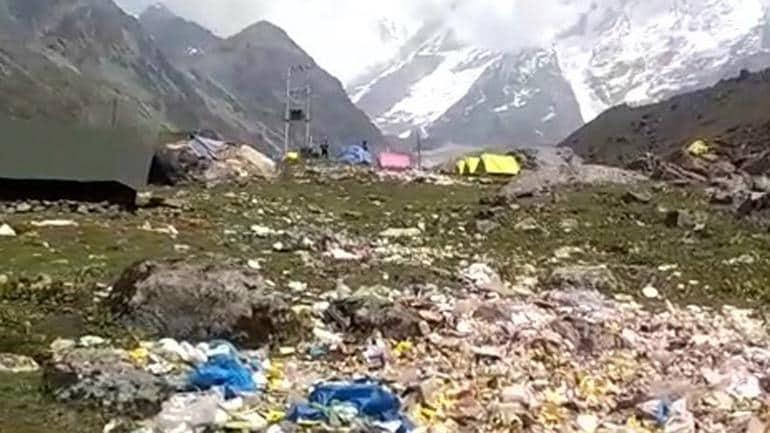garbage: (146, 257, 770, 433)
